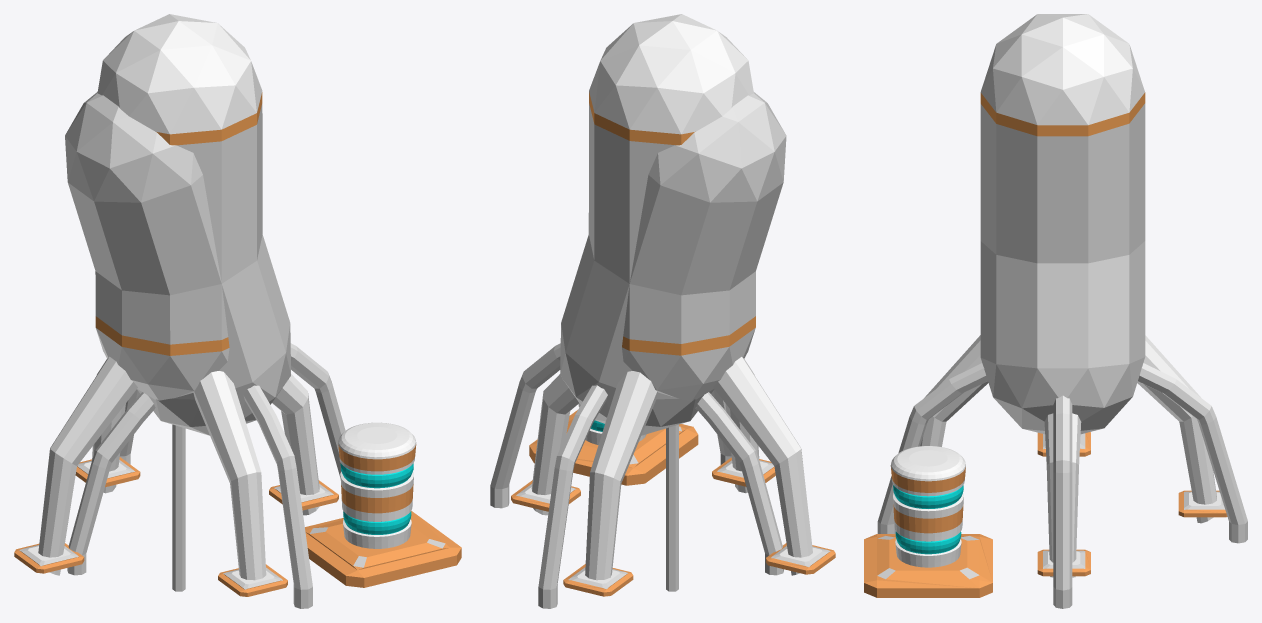
Rendered from extract2.fbx.
3 renders of one model, left to right at view 1: azimuth 30°, elevation 25°; view 2: azimuth 150°, elevation 25°; view 3: azimuth 270°, elevation 25°, orthographic. The views are drawn at different scales.
Visible parts, largest first — view 1: capsule.001, capsule, Cylinder.004, Cylinder.010, Cube, Cylinder.003, Cylinder.001, Cylinder.008, Cylinder, Cube.001, Cube.002, Cube.003 (+1 smaller); view 2: capsule.001, capsule, Cylinder.004, Cylinder.002, Cylinder.001, Cylinder, Cube, Cylinder.008, Cube.002, Cube.003, Cube.004, Cube.001; view 3: capsule.001, capsule, Cylinder.010, Cylinder.004, Cube, Cylinder, Cylinder.002, Cylinder.003, Cube.003, Cube.004.
Boxes of the visible parts, left/top/right/bottom form: capsule.001: left=95, top=14, right=262, bottom=400; capsule: left=65, top=92, right=290, bottom=435; Cylinder.004: left=38, top=356, right=319, bottom=580; Cylinder.010: left=338, top=422, right=416, bottom=548; Cube: left=305, top=511, right=461, bottom=587; Cylinder.003: left=243, top=385, right=312, bottom=608; Cylinder.001: left=67, top=392, right=155, bottom=575; Cylinder.008: left=172, top=424, right=185, bottom=591; Cylinder: left=290, top=343, right=345, bottom=478; Cube.001: left=218, top=564, right=287, bottom=596; Cube.002: left=14, top=543, right=84, bottom=573; Cube.003: left=75, top=457, right=140, bottom=487; capsule.001: left=588, top=14, right=755, bottom=400; capsule: left=560, top=92, right=786, bottom=435; Cylinder.004: left=531, top=357, right=812, bottom=596; Cylinder.002: left=538, top=385, right=607, bottom=608; Cylinder.001: left=696, top=392, right=783, bottom=575; Cylinder: left=490, top=343, right=560, bottom=508; Cube: left=529, top=410, right=698, bottom=485; Cylinder.008: left=666, top=424, right=678, bottom=591; Cube.002: left=766, top=543, right=835, bottom=574; Cube.003: left=563, top=564, right=633, bottom=596; Cube.004: left=511, top=480, right=580, bottom=511; Cube.001: left=712, top=457, right=775, bottom=486; capsule.001: left=980, top=14, right=1145, bottom=263; capsule: left=980, top=241, right=1145, bottom=434; Cylinder.010: left=890, top=446, right=965, bottom=567; Cylinder.004: left=920, top=335, right=1216, bottom=577; Cube: left=864, top=534, right=992, bottom=597; Cylinder: left=1053, top=395, right=1072, bottom=608; Cylinder.002: left=1138, top=363, right=1247, bottom=543; Cylinder.003: left=877, top=363, right=987, bottom=533; Cube.003: left=1178, top=490, right=1227, bottom=517; Cube.004: left=1037, top=549, right=1090, bottom=576.
Bounding box in the file's own units: 459 × 734 × 467.
